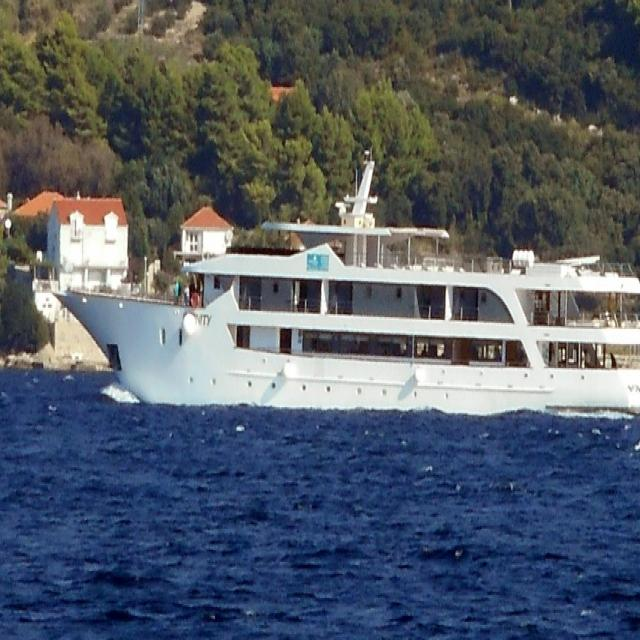cruises: (59, 154, 640, 434)
